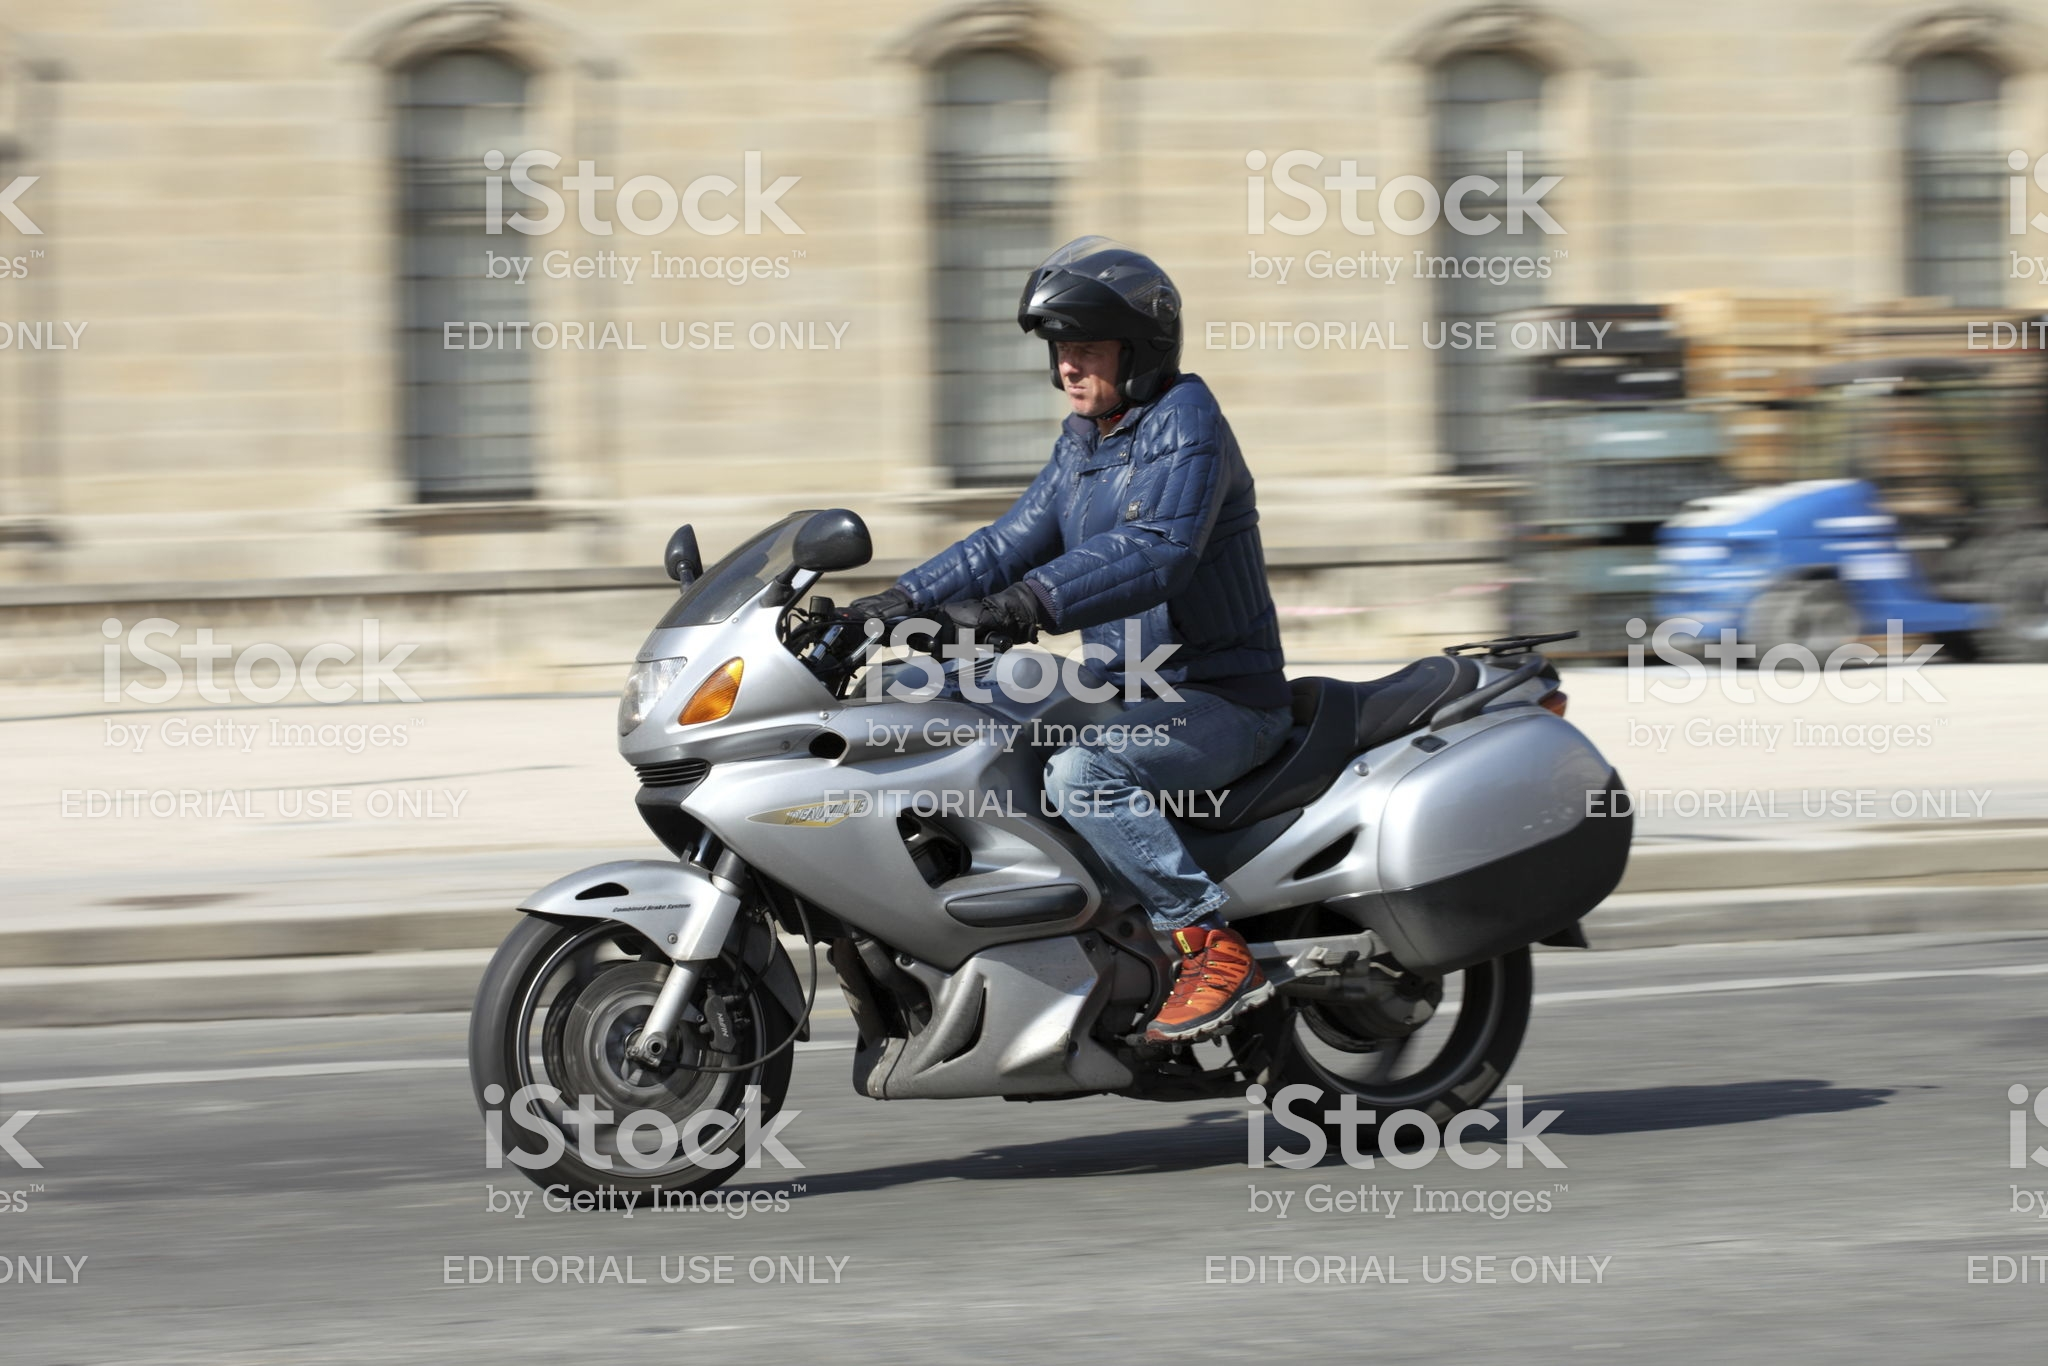helmet: (987, 227, 1205, 381)
